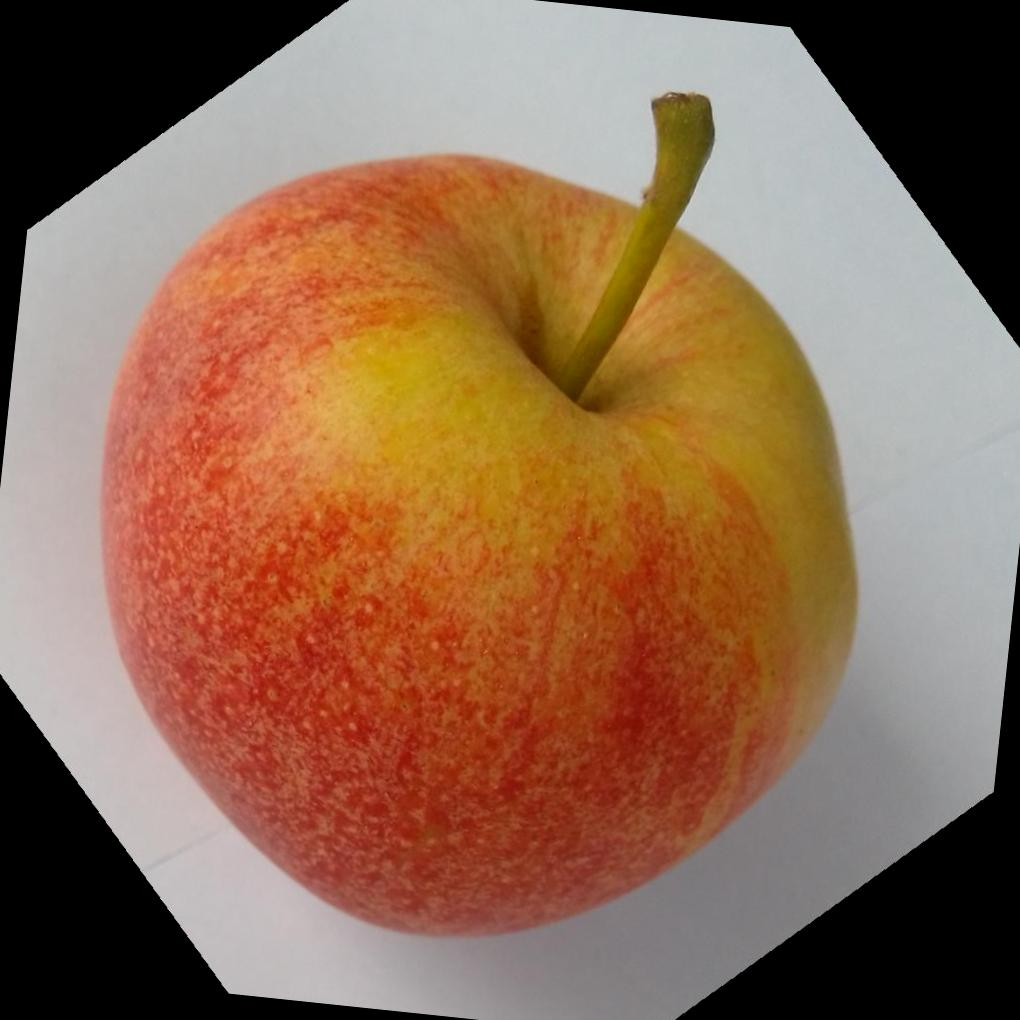FreshGuava: (94, 91, 861, 943)
